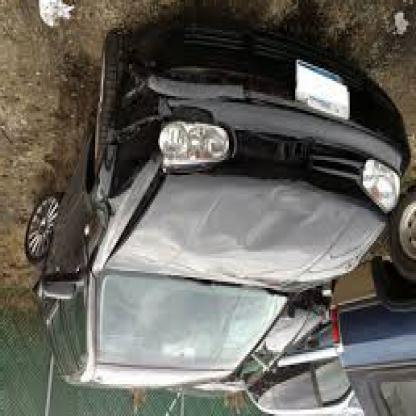dent: (238, 202, 317, 260), (108, 126, 152, 200)
